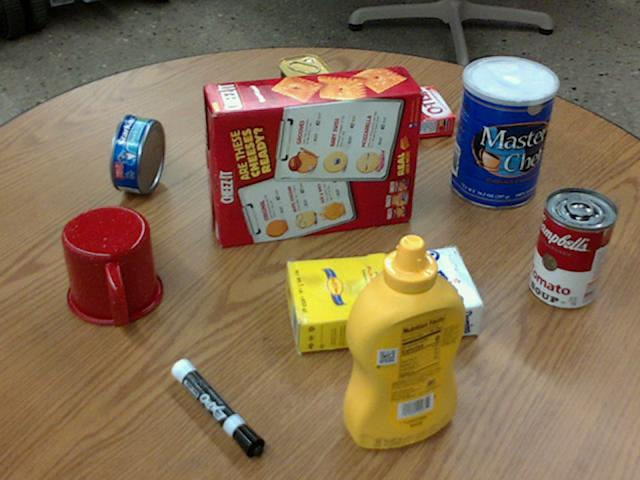cracker_box: (203, 65, 420, 247)
gelatin_box: (382, 85, 455, 136)
large_marker: (171, 359, 262, 456)
master_chef_can: (450, 56, 557, 207)
mug: (62, 206, 163, 325)
mustard_bottle: (343, 235, 464, 448)
potted_meat_can: (278, 53, 343, 149)
sugar_box: (285, 248, 484, 351)
tomato_soup_can: (530, 187, 617, 308)
tuna_fish_can: (111, 115, 163, 193)
